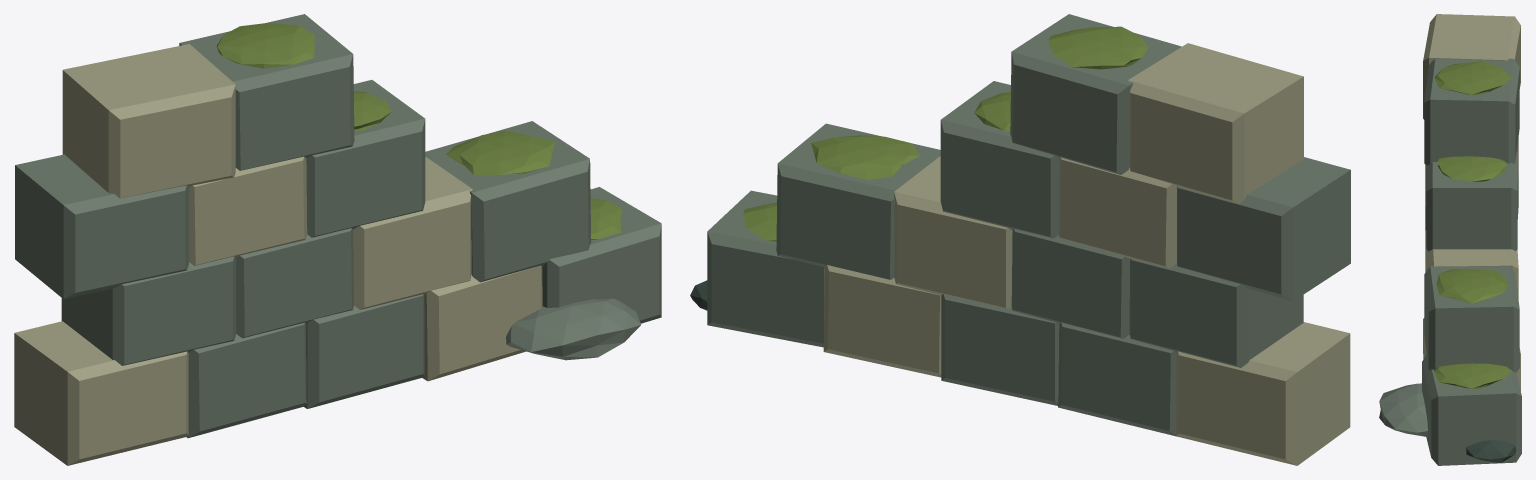
The model's file is ruined_wall.glb.
The picture shows the model from 3 angles, left to right: view 1: azimuth 30°, elevation 25°; view 2: azimuth 150°, elevation 25°; view 3: azimuth 270°, elevation 25°; orthographic projection. The views are drawn at different scales.
Visible parts, largest first — view 1: lightStone_210, lightStone_195, stone_206, stone_204, stone_211, stone_201, stone_208, lightStone_203, stone_197, stone_196, stone_202, lightStone_207 (+7 smaller); view 2: lightStone_210, lightStone_195, stone_206, stone_211, stone_204, stone_201, stone_199, stone_208, lightStone_203, stone_196, stone_197, lightStone_198 (+6 smaller); view 3: stone_211, stone_204, stone_199, stone_208, lightStone_210, stone_213, moss_205, moss_212, lightStone_203, moss_200, moss_209, darkStone_214 (+2 smaller).
Boxes of the visible parts, x1,y1,x2,y2 form: lightStone_210: (62,44,235,198); lightStone_195: (14,321,188,465); stone_206: (15,154,188,299); stone_204: (425,121,591,282); stone_211: (179,14,354,170); stone_201: (61,256,236,365); stone_208: (306,80,425,237); lightStone_203: (353,156,472,309); stone_197: (304,294,424,408); stone_196: (186,322,306,438); stone_202: (236,228,353,338); lightStone_207: (189,156,307,265); lightStone_210: (1128,43,1303,204); lightStone_195: (1176,322,1350,465); stone_206: (1177,157,1350,301); stone_211: (1010,14,1181,174); stone_204: (776,123,940,279); stone_201: (1129,258,1303,367); stone_199: (707,190,824,347); stone_208: (940,81,1059,238); lightStone_203: (894,156,1012,308); stone_196: (1058,322,1176,436); stone_197: (941,294,1059,405); lightStone_198: (823,265,941,377); stone_211: (1424,58,1519,165); stone_204: (1424,265,1519,372); stone_199: (1422,354,1521,465); stone_208: (1426,152,1517,251); lightStone_210: (1423,14,1520,119); stone_213: (1379,383,1427,436); moss_205: (1436,269,1507,303); moss_212: (1434,60,1511,94); lightStone_203: (1425,230,1518,298); moss_200: (1434,363,1511,388); moss_209: (1437,156,1507,181); darkStone_214: (1466,440,1516,463).
Bounding box in the file's own units: 2.9 × 1.57 × 0.7835.
